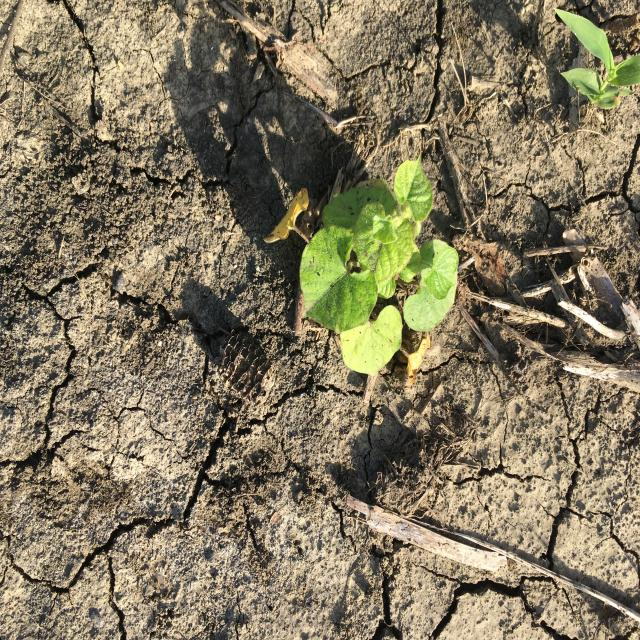MorningGlory: (263, 152, 460, 381)
